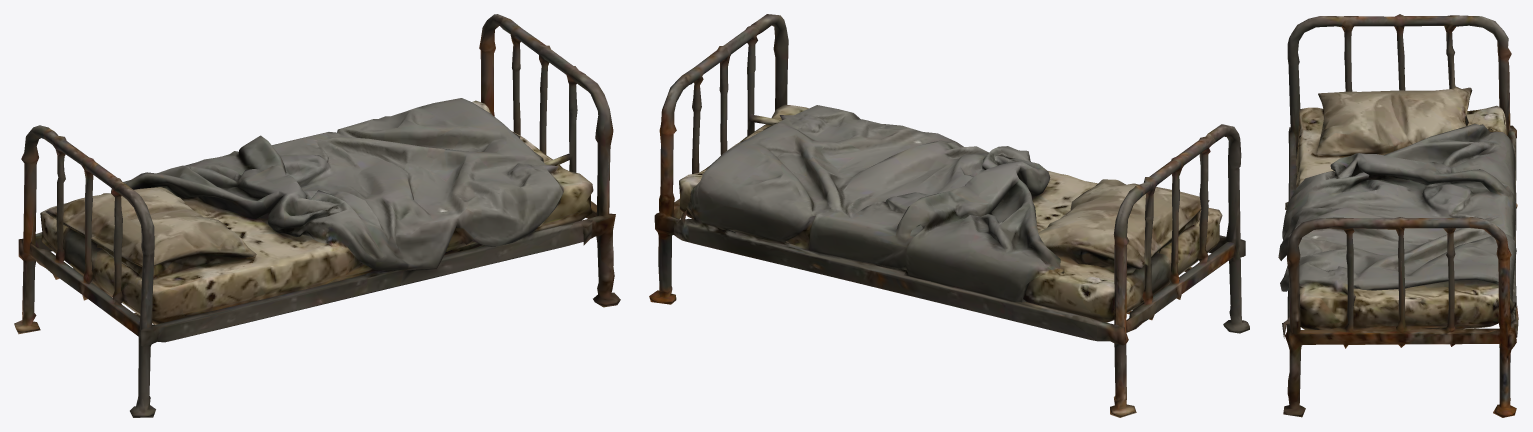
File: bed.glb
3 views of the same model, side by side, from view 1: azimuth 30°, elevation 25°; view 2: azimuth 150°, elevation 25°; view 3: azimuth 270°, elevation 25° (orthographic). The views are drawn at different scales.
Parts seen in each view (by area): view 1: tripo_node_40374c96-65e9-4036-8481-60dc4816f702; view 2: tripo_node_40374c96-65e9-4036-8481-60dc4816f702; view 3: tripo_node_40374c96-65e9-4036-8481-60dc4816f702.
Part boxes in pixels (box(x1,y1,x2,y2)): tripo_node_40374c96-65e9-4036-8481-60dc4816f702: box(14, 14, 620, 417); tripo_node_40374c96-65e9-4036-8481-60dc4816f702: box(649, 14, 1249, 417); tripo_node_40374c96-65e9-4036-8481-60dc4816f702: box(1278, 14, 1518, 417).
Size of the model in its own units: 0.9999 by 0.4181 by 0.4711.
Materials: 1 (1 with a texture image).
